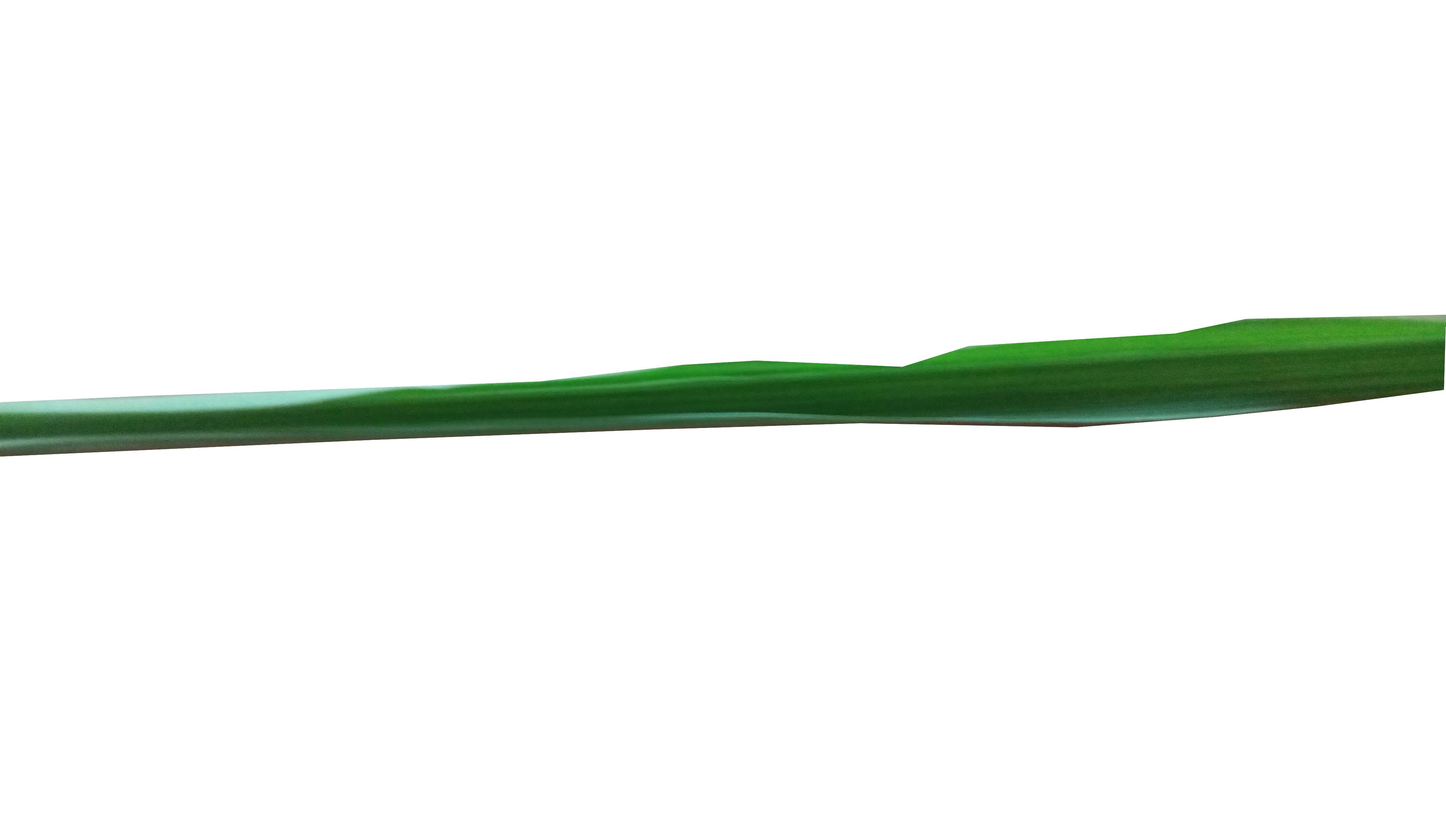Healthy: (0, 317, 1446, 458)
